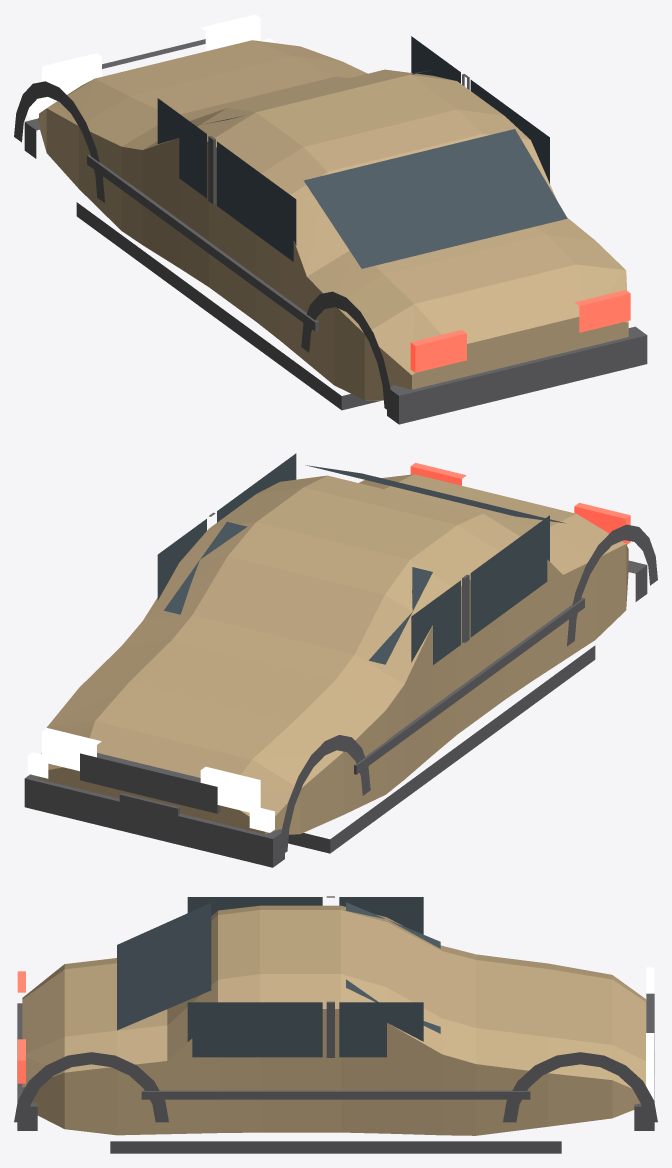
File: zaz_968.glb
The picture shows the model from 3 angles, top to bottom: view 1: azimuth 30°, elevation 25°; view 2: azimuth 150°, elevation 25°; view 3: azimuth 270°, elevation 25°; orthographic projection. The views are drawn at different scales.
Parts seen in each view (by area): view 1: car_body; view 2: car_body; view 3: car_body.
Boxes of the visible parts, bbox=[...] form: car_body: bbox=[14, 14, 647, 424]; car_body: bbox=[24, 453, 657, 867]; car_body: bbox=[14, 896, 657, 1153].
Bounding box in the file's own units: 1.57 × 1.04 × 3.82.
